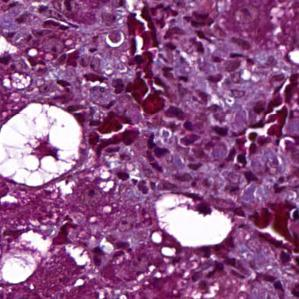ballooning: (0, 100, 86, 188), (152, 187, 237, 254)
